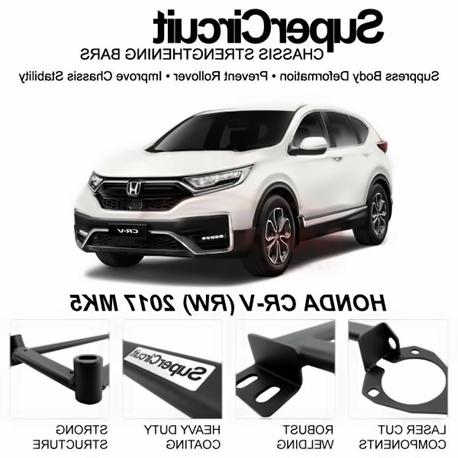Car hood: (91, 148, 264, 179)
Fender - -F-L-: (258, 142, 308, 248)
Fender - -R-L-: (363, 148, 393, 226)
Front bumper: (71, 188, 264, 261)
Headlight - -L-: (174, 161, 258, 200)
Headlight - -R-: (86, 168, 109, 198)
Passenger-s door - -F-L-: (292, 105, 342, 228)
Passenger-s door - -R-L-: (333, 109, 371, 218)
Rear bumper: (385, 180, 408, 230)
Rear light - -L-: (366, 132, 408, 160)
Side bumper - -L-: (290, 201, 374, 246)
